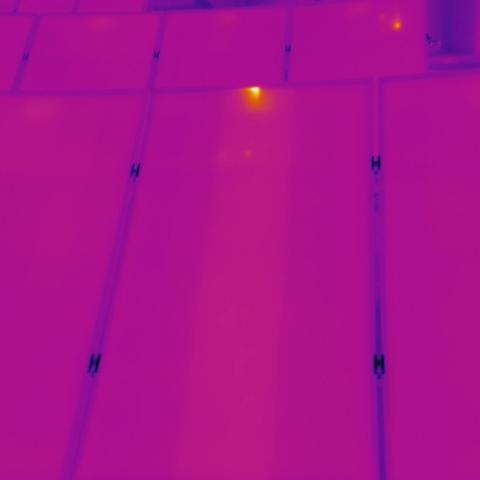fault: (243, 82, 269, 105)
